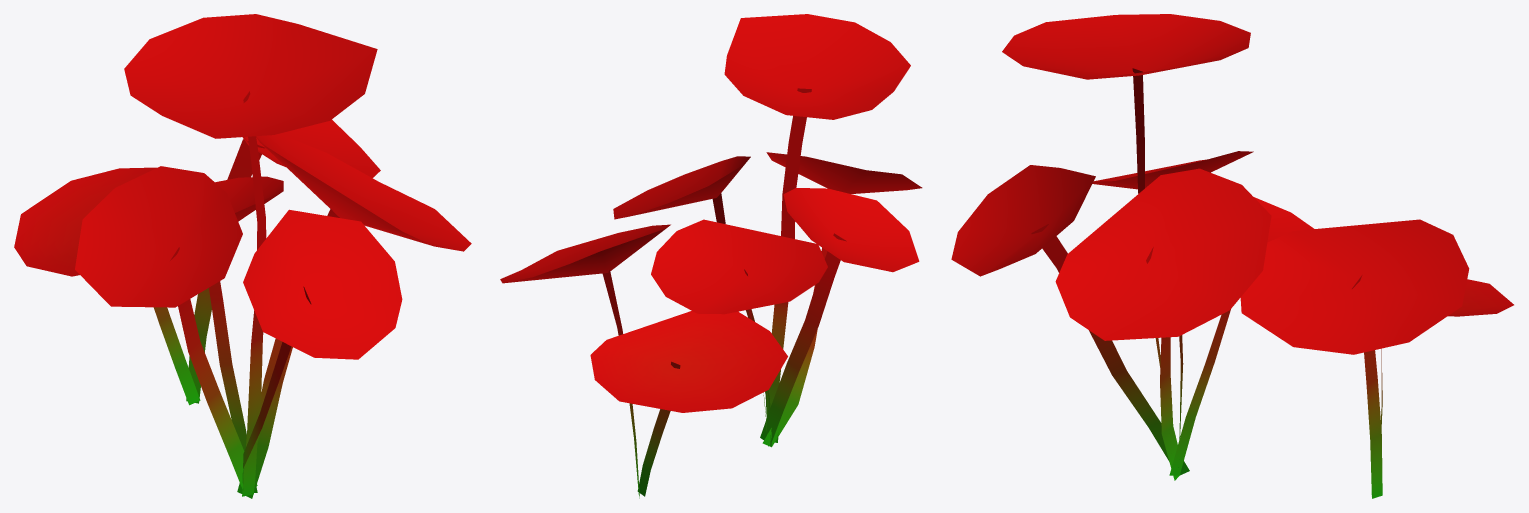
Rendered from Native Violet_LOD3_Var11_ultkcfeja.fbx.
The picture shows the model from 3 angles, left to right: view 1: azimuth 30°, elevation 25°; view 2: azimuth 150°, elevation 25°; view 3: azimuth 270°, elevation 25°; orthographic projection. The views are drawn at different scales.
Visible parts, largest first — view 1: _r3cu_Var11_LOD3; view 2: _r3cu_Var11_LOD3; view 3: _r3cu_Var11_LOD3.
Boxes of the visible parts, x1,y1,x2,y2 form: _r3cu_Var11_LOD3: (14, 14, 471, 498); _r3cu_Var11_LOD3: (500, 14, 922, 498); _r3cu_Var11_LOD3: (951, 14, 1513, 498).
Size of the model in its own units: 8.28 by 10.01 by 11.67.
